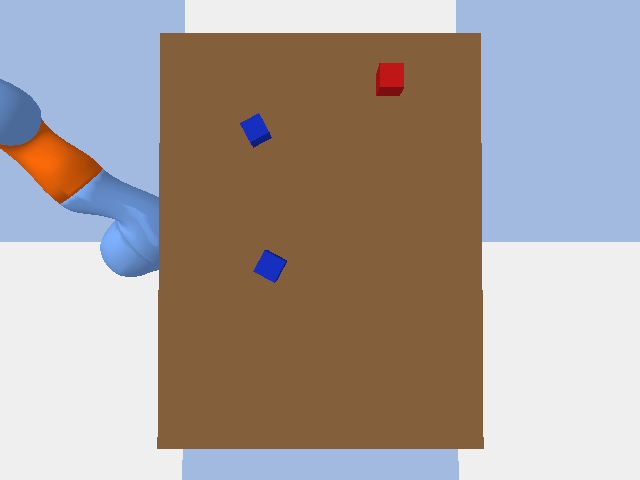blue_obj: (253, 250, 286, 282), (240, 113, 271, 147)
red_obj: (376, 63, 403, 95)
